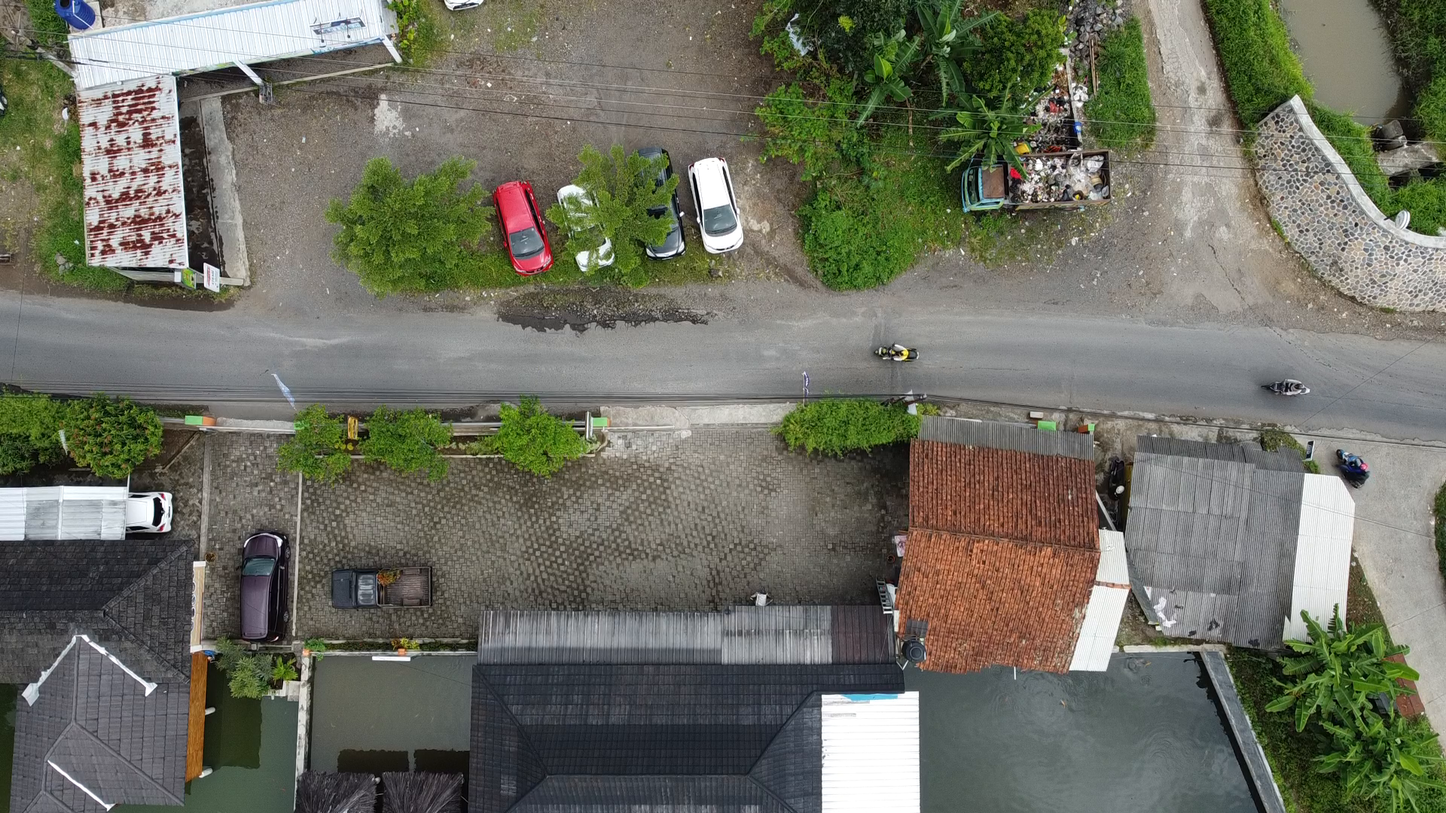mobil: (619, 141, 694, 263), (322, 553, 457, 620), (225, 527, 292, 639), (490, 168, 555, 283), (685, 154, 747, 257), (551, 180, 616, 277), (121, 489, 194, 541)
